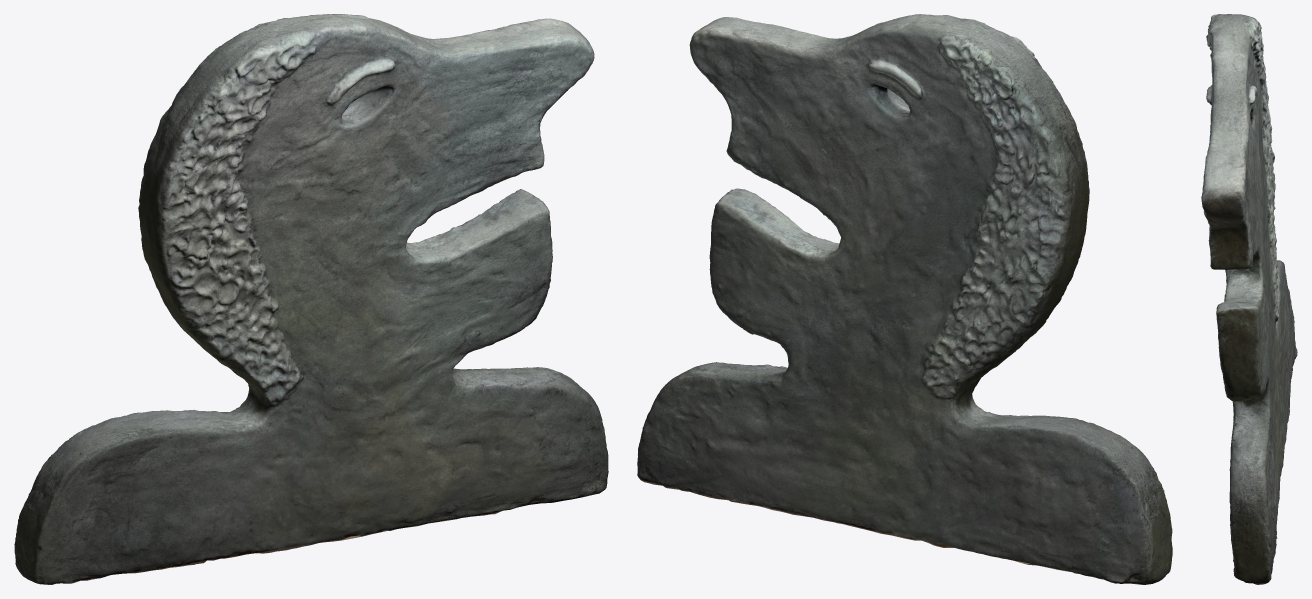
File: greenie.glb
3 views of the same model, side by side, from view 1: azimuth 30°, elevation 25°; view 2: azimuth 150°, elevation 25°; view 3: azimuth 270°, elevation 25° (orthographic). The views are drawn at different scales.
Parts seen in each view (by area): view 1: baked_mesh_4911abb6; view 2: baked_mesh_4911abb6; view 3: baked_mesh_4911abb6.
Boxes of the visible parts, x1,y1,x2,y2 form: baked_mesh_4911abb6: [14, 14, 608, 584]; baked_mesh_4911abb6: [637, 14, 1172, 584]; baked_mesh_4911abb6: [1201, 14, 1297, 584].
Bounding box in the file's own units: 1.02 × 0.9474 × 0.1899.
Materials: 1 (1 with a texture image).
